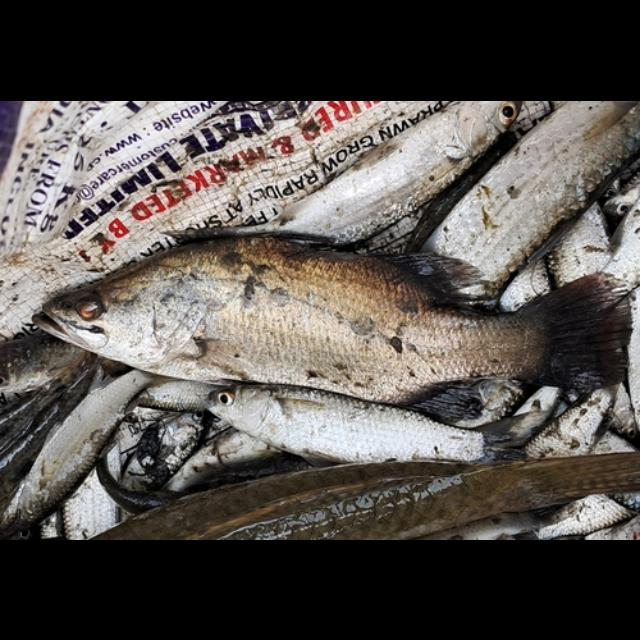Seabass: (28, 230, 632, 418)
